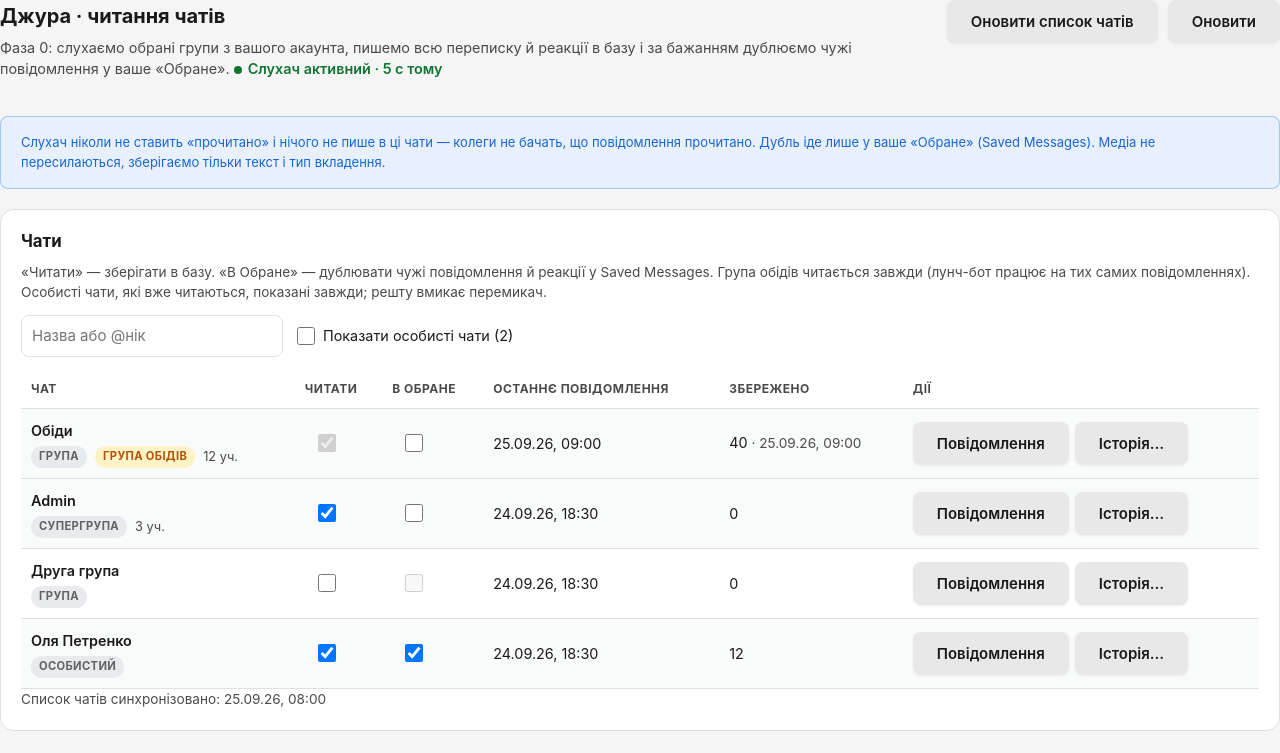
Test: DzhuraTab › перегляд повідомлень: список, пошук і «Показати ще» з курсором
The width and height of the screenshot is (1280, 753).
Expected: the text "Admin" is shown, x1=31 y1=492 x2=76 y2=509
Click the button with aria-label "Повідомлення: Admin". click: (991, 513)
box: x1=913 y1=492 x2=1069 y2=535
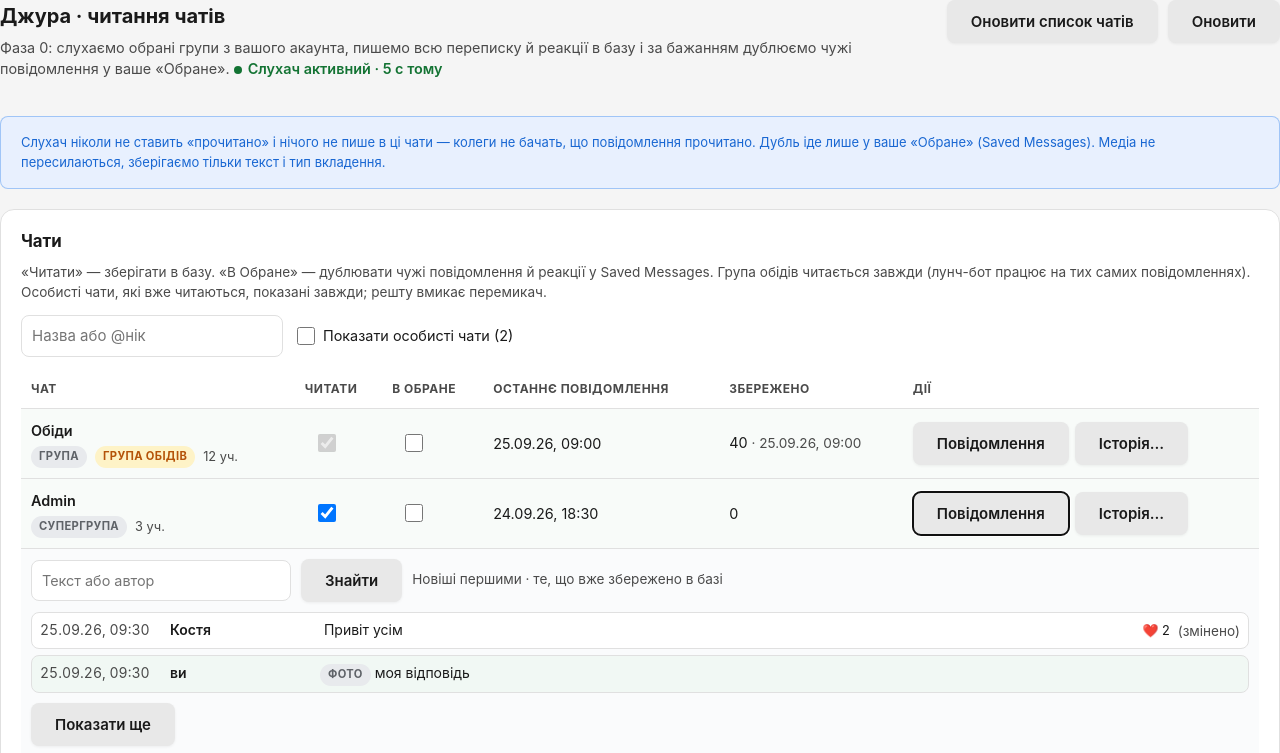
Result: the number of list items is 2 at x1=31 y1=612 x2=1249 y2=650; x1=31 y1=656 x2=1249 y2=693
Result: the text "Привіт усім" is shown at x1=324 y1=621 x2=403 y2=638
Result: the text "❤️ 2" is shown at x1=1142 y1=621 x2=1170 y2=642
Click the button "Показати ще". click: (103, 725)
box: x1=31 y1=703 x2=175 y2=746
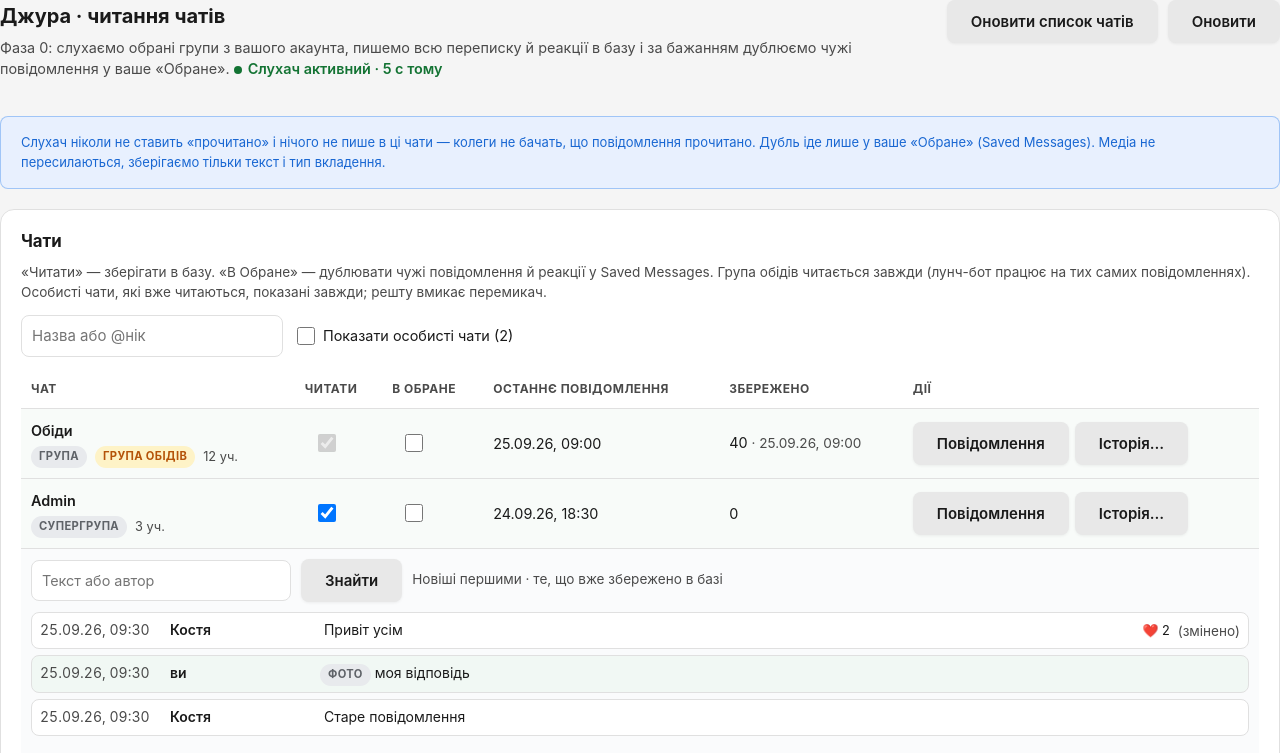
Result: the number of list items is 3 at x1=31 y1=612 x2=1249 y2=650; x1=31 y1=656 x2=1249 y2=693; x1=31 y1=699 x2=1249 y2=736
Result: the button "Показати ще" is gone
Type "звіт" into the search field named "Пошук у повідомленнях: Admin". click: (161, 580)
box: x1=31 y1=560 x2=291 y2=601
Then press Enter
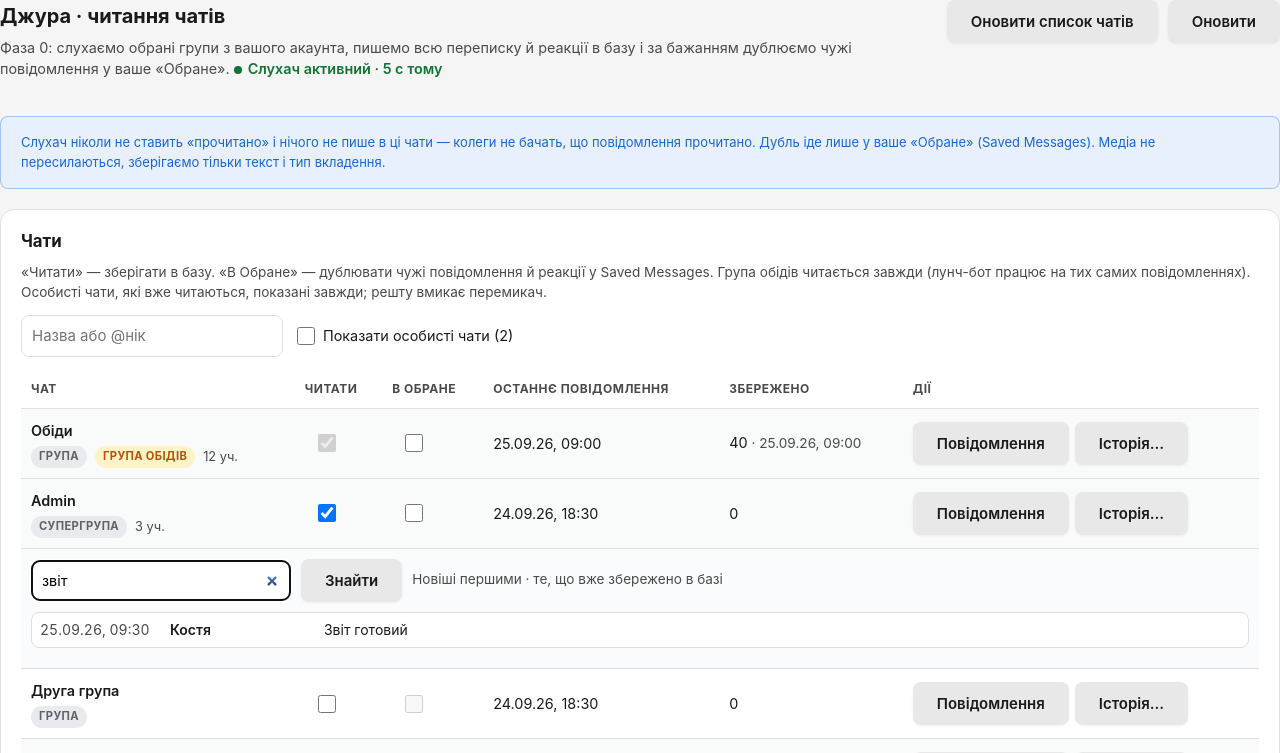
Result: the text "Звіт готовий" is shown at x1=324 y1=621 x2=408 y2=638
Result: the number of list items is 1 at x1=31 y1=612 x2=1249 y2=648
